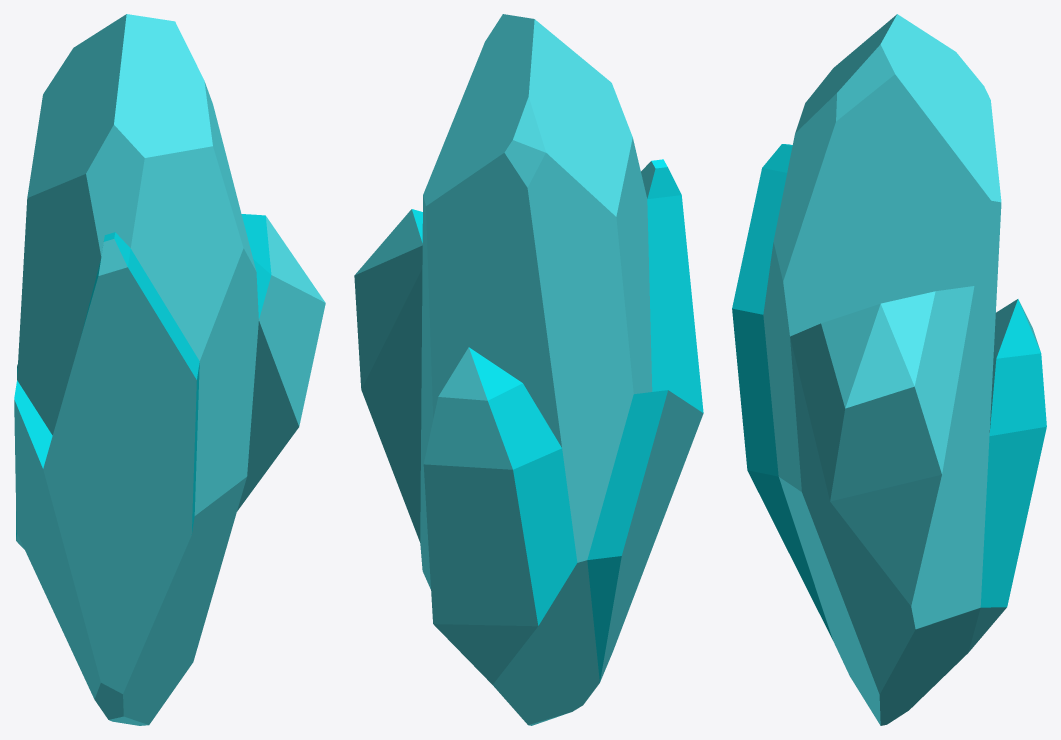
File: Crystal_03.glb
3 renders of one model, left to right at view 1: azimuth 30°, elevation 25°; view 2: azimuth 150°, elevation 25°; view 3: azimuth 270°, elevation 25°, orthographic.
Parts seen in each view (by area): view 1: Crystal_03; view 2: Crystal_03; view 3: Crystal_03.
Boxes of the visible parts, left/top/right/bottom form: Crystal_03: left=14, top=14, right=325, bottom=725; Crystal_03: left=354, top=14, right=703, bottom=725; Crystal_03: left=732, top=14, right=1046, bottom=725.
Size of what is drawn, in the model's own units: 0.8434 by 1.91 by 0.773.
Materials: 1 (1 with a texture image).
